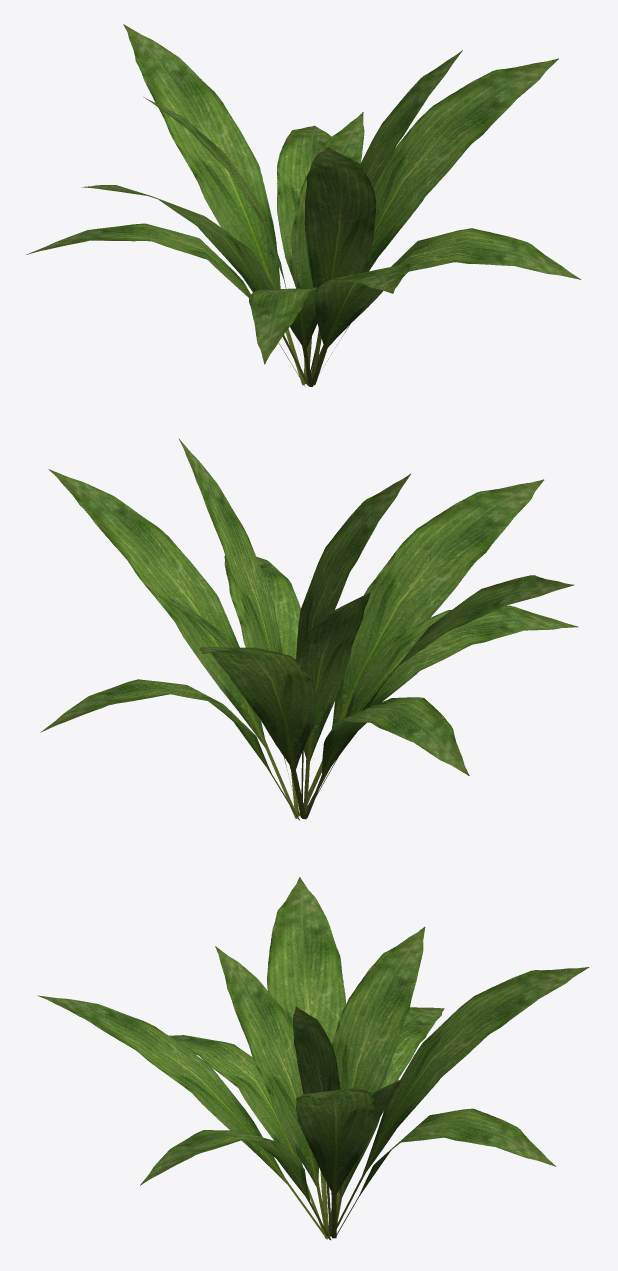
Rendered from MK4_Trop_Plant13.DAE.
3 renders of one model, top to bottom at view 1: azimuth 30°, elevation 25°; view 2: azimuth 150°, elevation 25°; view 3: azimuth 270°, elevation 25°, orthographic. The views are drawn at different scales.
Visible parts, largest first — view 1: MK4_Trop_plant13; view 2: MK4_Trop_plant13; view 3: MK4_Trop_plant13.
Boxes of the visible parts, x1,y1,x2,y2 form: MK4_Trop_plant13: (26, 24, 580, 386); MK4_Trop_plant13: (40, 438, 578, 820); MK4_Trop_plant13: (37, 877, 589, 1240).
Size of the model in its own units: 1.17 by 1.26 by 0.727.
